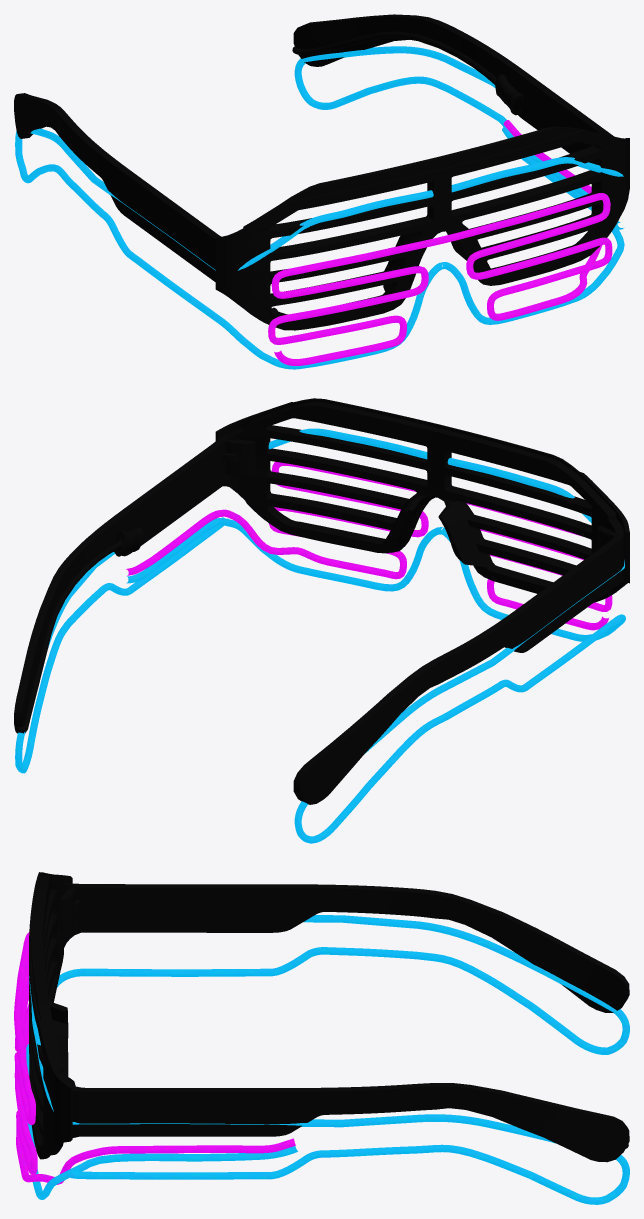
The model's file is noenglassesPositionedTest.glb.
3 renders of one model, top to bottom at view 1: azimuth 30°, elevation 25°; view 2: azimuth 150°, elevation 25°; view 3: azimuth 270°, elevation 25°, orthographic. The views are drawn at different scales.
Parts seen in each view (by area): view 1: Cube.010_4, Cube.007_2; view 2: Cube.010_4, Cube.007_2; view 3: Cube.010_4, Cube.007_2.
Part boxes in pixels (x1=…): Cube.010_4: x1=14, y1=14, x2=629, y2=330; Cube.007_2: x1=15, y1=46, x2=624, y2=369; Cube.010_4: x1=14, y1=398, x2=629, y2=804; Cube.007_2: x1=15, y1=428, x2=625, y2=843; Cube.010_4: x1=29, y1=872, x2=629, y2=1162; Cube.007_2: x1=14, y1=915, x2=629, y2=1204.
Bounding box in the file's own units: 515 × 218 × 631.
2 materials, 2 textured.
